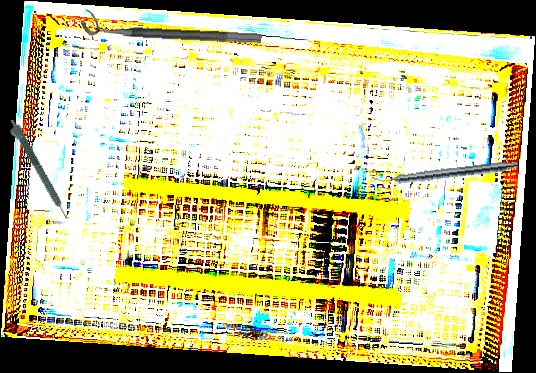Fixation Ring: (80, 8, 263, 45)
Handpiece: (4, 117, 71, 224), (371, 157, 519, 188)
